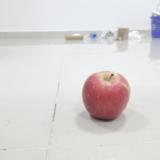apple: (82, 71, 131, 121)
